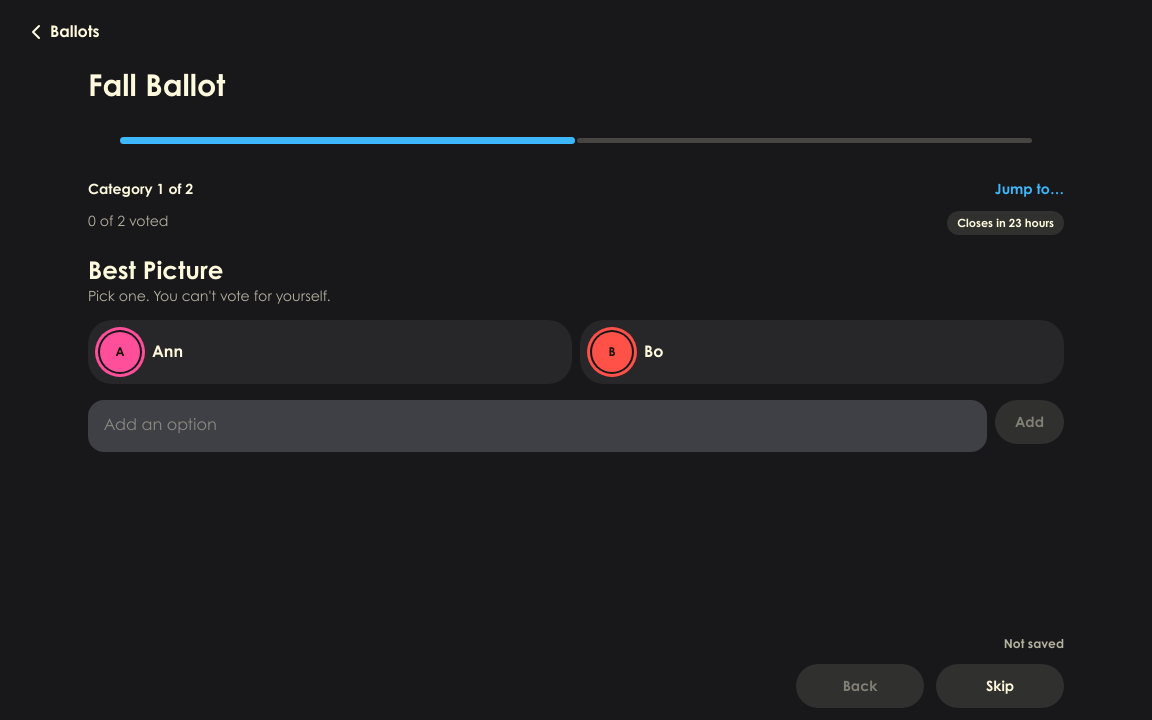
Test: VotePage behavior › typing an existing option says it already exists
Check: the element "Best Picture" is shown, box 88,255 -> 1064,452
Type "ann" into the field labelled "Add an option" at (537, 426), box 88,400 -> 987,452
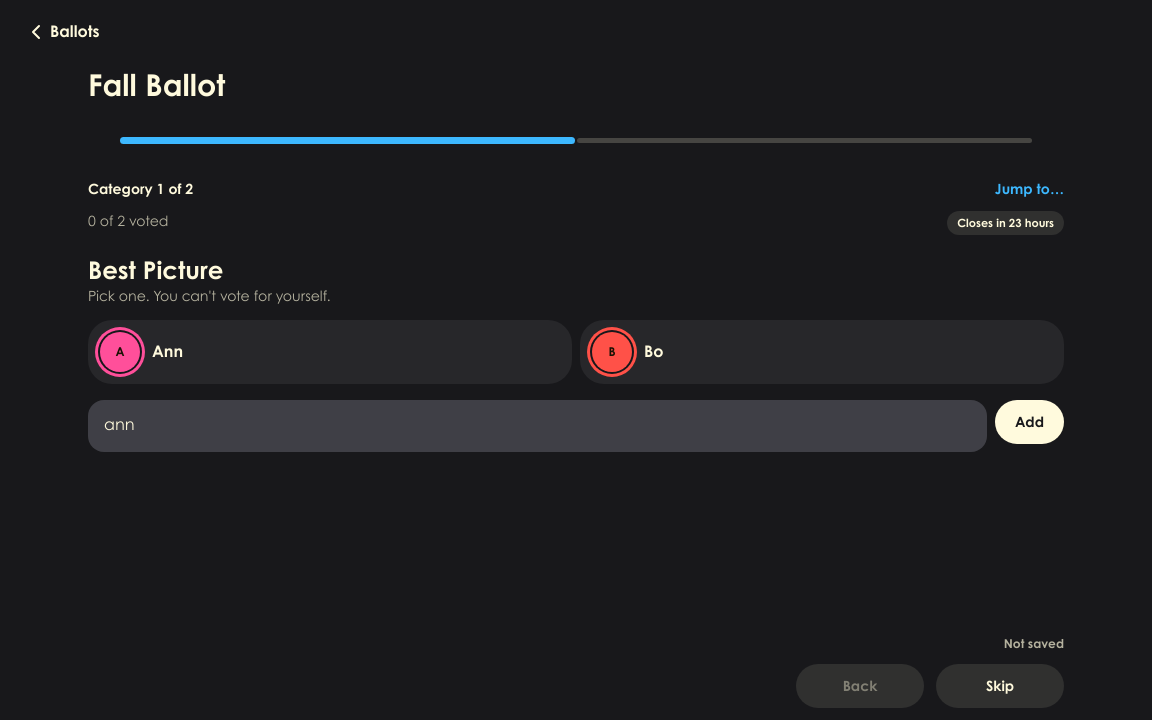
Submit the form named "add an option", box 88,400 -> 1064,452
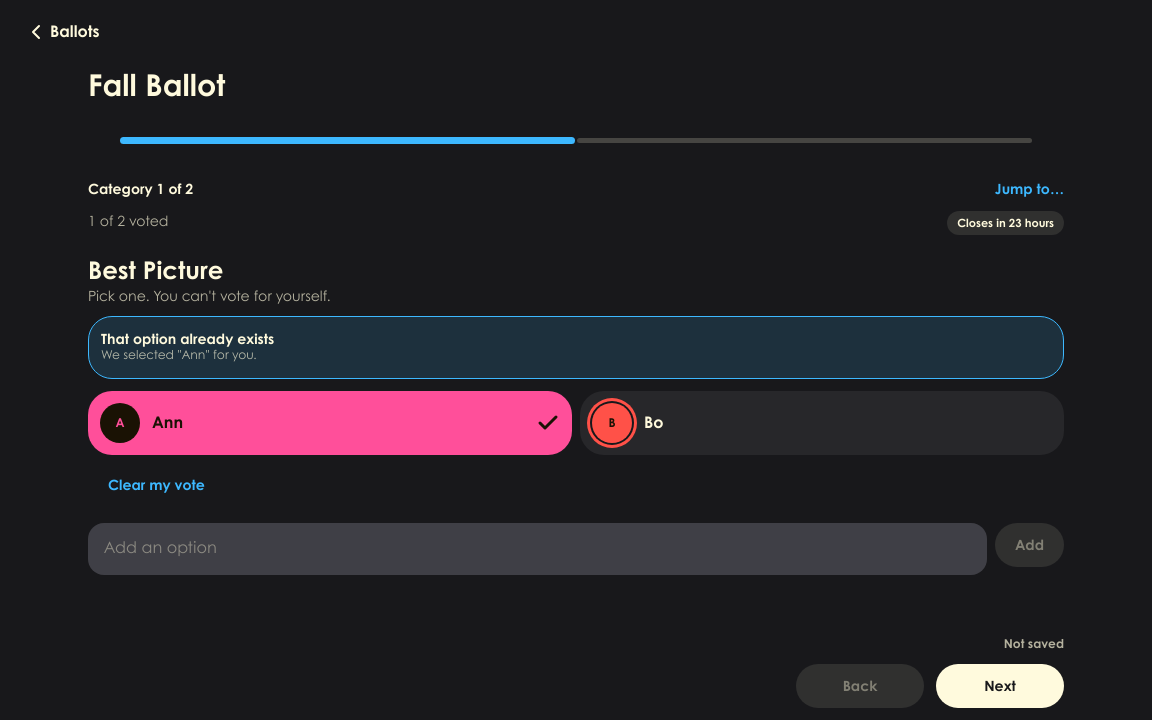
Check: the text "That option already exists" is shown, box 101,330 -> 274,347
